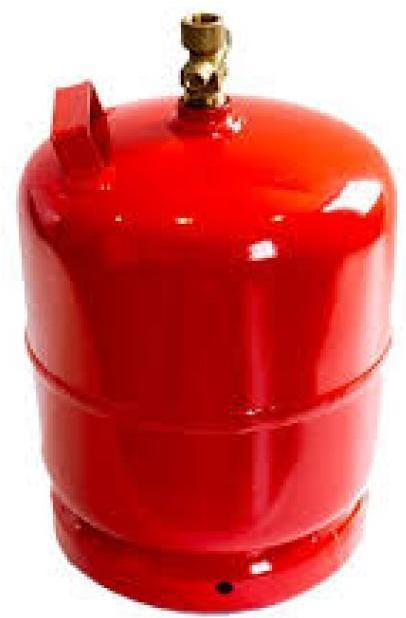cylinder: (1, 0, 406, 618)
